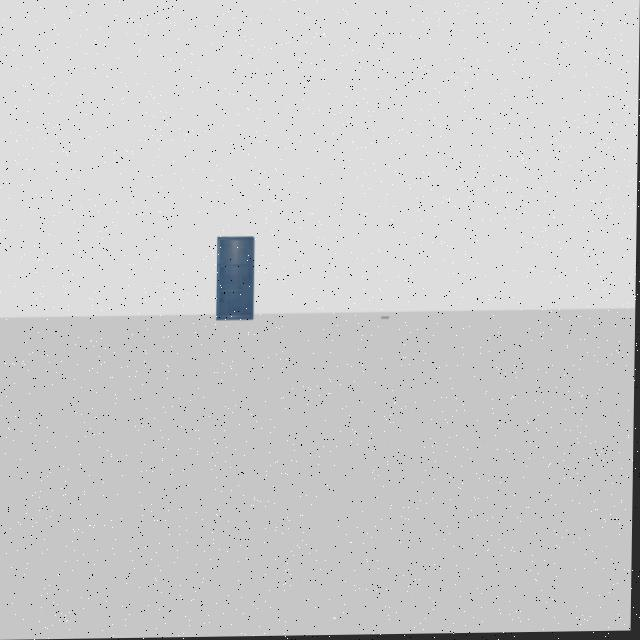bowl: (373, 310, 402, 332)
shelf: (209, 225, 268, 331)
